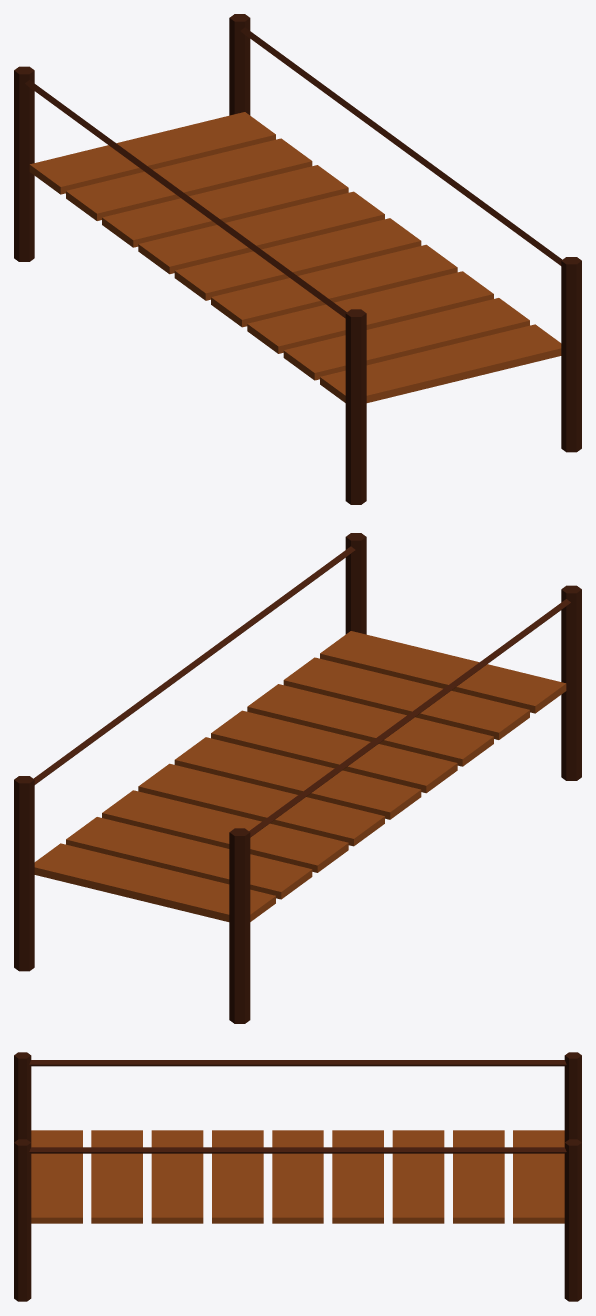
Rendered from rope_bridge.obj.
The picture shows the model from 3 angles, top to bottom: view 1: azimuth 30°, elevation 25°; view 2: azimuth 150°, elevation 25°; view 3: azimuth 270°, elevation 25°; orthographic projection. The views are drawn at different scales.
Parts seen in each view (by area): view 1: rope_bridge; view 2: rope_bridge; view 3: rope_bridge.
Boxes of the visible parts, x1,y1,x2,y2 form: rope_bridge: [14, 14, 581, 504]; rope_bridge: [14, 533, 581, 1023]; rope_bridge: [14, 1052, 581, 1301].
Size of the model in its own units: 1.29 by 1 by 3.3.
